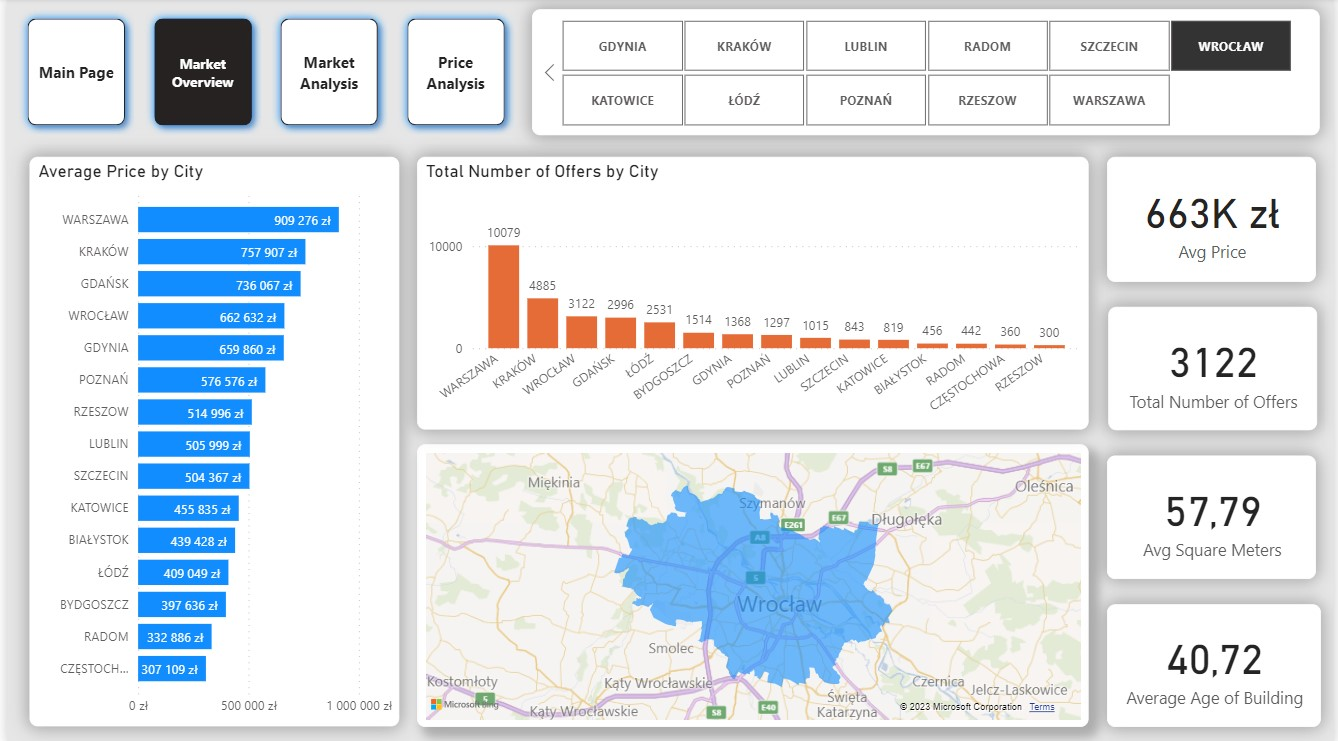

What the dashboard file says about the page in this screenshot:
{"tool":"powerbi","page":{"name":"Market Overview","canvas":[1280,720],"ordinal":1},"visuals":[{"type":"filledMap","fields":{"Category":["DIM_City.city"]},"box":[395.6,430.6,647.6,272.6],"z":0},{"type":"card","fields":{"Values":["_Measures.Avg Price"]},"box":[1061.3,153.2,201.4,120.6],"z":1000},{"type":"card","fields":{"Values":["_Measures.Avg Square Meters"]},"box":[1061.8,441.4,201.4,119.4],"z":2000},{"type":"card","fields":{"Values":["_Measures.Nuber of offers"]},"box":[1063,297.9,201.4,119.4],"z":3000},{"type":"card","fields":{"Values":["_Measures.Average Age of Building"]},"box":[1061.3,584.9,206.2,118.2],"z":4000},{"type":"columnChart","title":"Total Number of Offers by City","fields":{"Y":["_Measures.Nuber of offers"],"Category":["DIM_City.city"]},"box":[395.6,153.2,647.6,262.9],"z":5000},{"type":"barChart","title":"Average Price by City","fields":{"Y":["_Measures.Avg Price"],"Category":["DIM_City.city"]},"box":[21.7,153.2,357,549.9],"z":6000},{"type":"slicer","fields":{"Values":["DIM_City.city"]},"box":[506.2,11.2,760,121.2],"z":7000},{"type":"pageNavigator","box":[11.2,11.2,481.2,121.2],"z":8000}]}

Visuals, with their boxes in screenshot pixels (x1, y1, x2, y2), scaled from the page's 1280x720 canvas onto the 1338x741 screenshot:
filledMap - DIM_City.city: BBox(414, 443, 1090, 724)
card - _Measures.Avg Price: BBox(1109, 158, 1320, 282)
card - _Measures.Avg Square Meters: BBox(1110, 454, 1320, 577)
card - _Measures.Nuber of offers: BBox(1111, 307, 1322, 429)
card - _Measures.Average Age of Building: BBox(1109, 602, 1325, 724)
"Total Number of Offers by City" columnChart: BBox(414, 158, 1090, 428)
"Average Price by City" barChart: BBox(23, 158, 396, 724)
slicer - DIM_City.city: BBox(529, 12, 1324, 136)
pageNavigator: BBox(12, 12, 515, 136)
